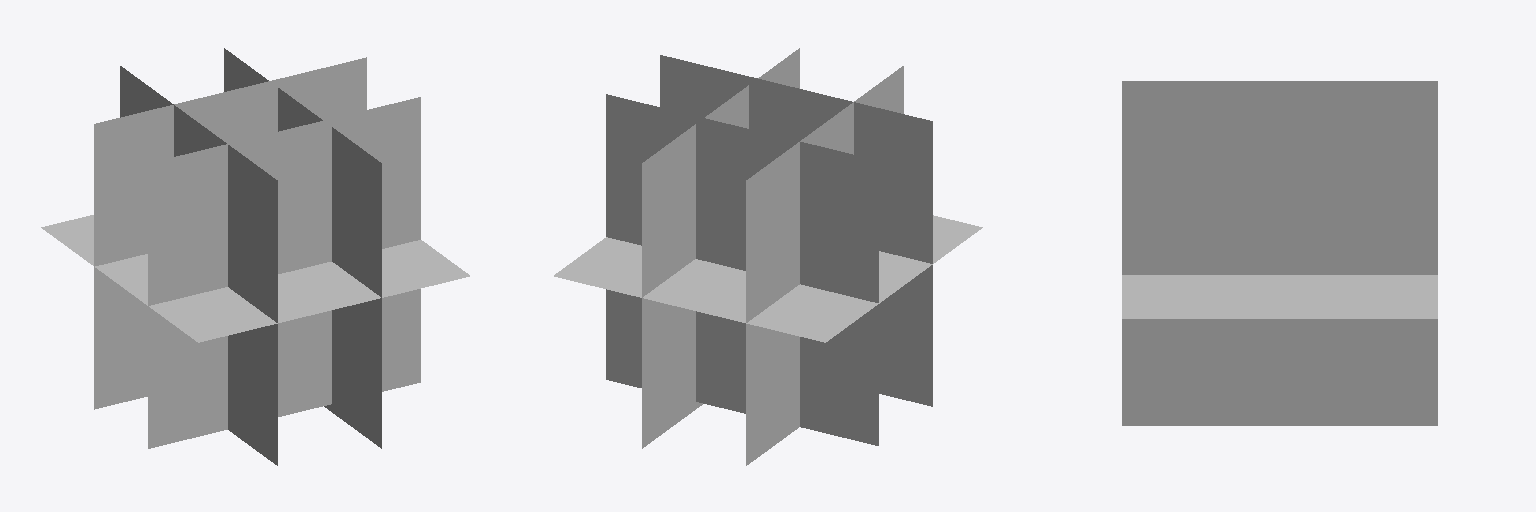
The model's file is jeweled-ring-tone-map-test.obj.
3 views of the same model, side by side, from view 1: azimuth 30°, elevation 25°; view 2: azimuth 150°, elevation 25°; view 3: azimuth 270°, elevation 25° (orthographic).
Parts seen in each view (by area): view 1: Plane_copy.002, Plane_copy.003, Plane_copy.001, Plane_copy, Plane; view 2: Plane_copy.003, Plane_copy.002, Plane_copy.001, Plane_copy, Plane; view 3: Plane_copy, Plane_copy.001, Plane.
Boxes of the visible parts, box(x1,y1,x2,y2) form: Plane_copy.002: box(148, 97, 420, 448); Plane_copy.003: box(94, 57, 366, 409); Plane_copy.001: box(120, 66, 277, 465); Plane_copy: box(224, 48, 381, 448); Plane: box(41, 215, 469, 342); Plane_copy.003: box(606, 94, 878, 445); Plane_copy.002: box(660, 55, 932, 406); Plane_copy.001: box(746, 66, 903, 465); Plane_copy: box(642, 48, 799, 448); Plane: box(554, 215, 982, 342); Plane_copy: box(1122, 140, 1437, 425); Plane_copy.001: box(1122, 81, 1437, 139); Plane: box(1122, 275, 1437, 318).
Size of the model in its own units: 400 by 411 by 400.